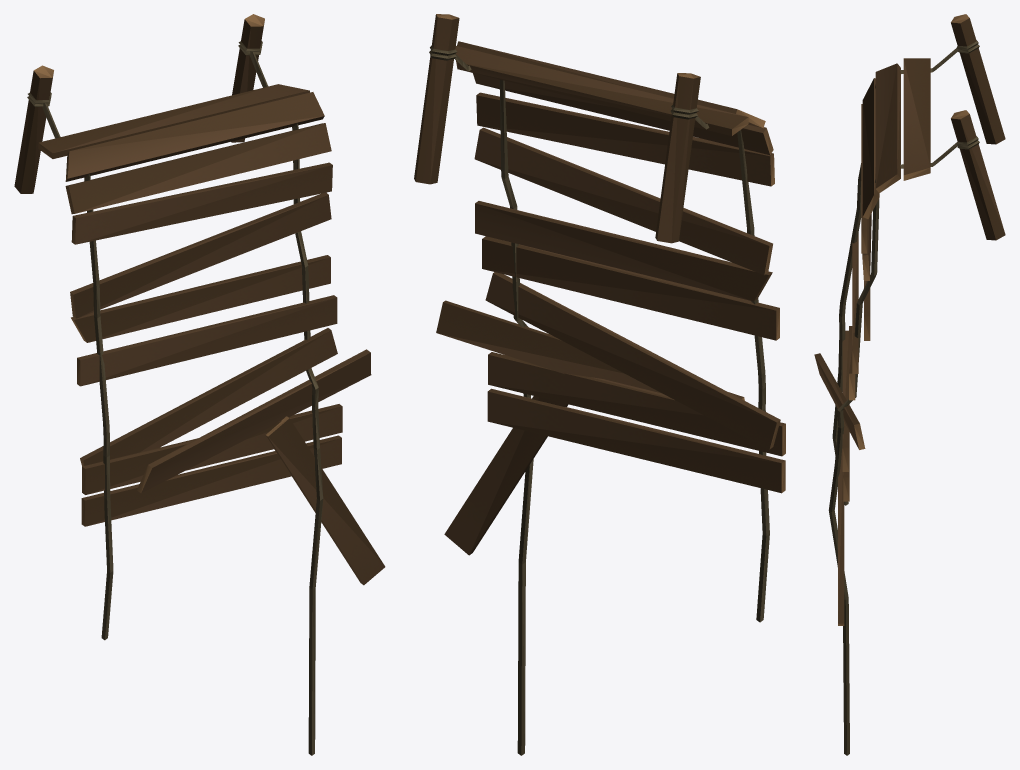
Rendered from Bridge_3B_Lod0.fbx.
3 renders of one model, left to right at view 1: azimuth 30°, elevation 25°; view 2: azimuth 150°, elevation 25°; view 3: azimuth 270°, elevation 25°, orthographic. The views are drawn at different scales.
Parts seen in each view (by area): view 1: polySurface603; view 2: polySurface603; view 3: polySurface603.
Part boxes in pixels (<box>): polySurface603: <box>14,14,385,755</box>; polySurface603: <box>414,14,785,755</box>; polySurface603: <box>814,14,1005,755</box>.
Size of the model in its own units: 464 by 1027 by 276.
1 material, 1 textured.
